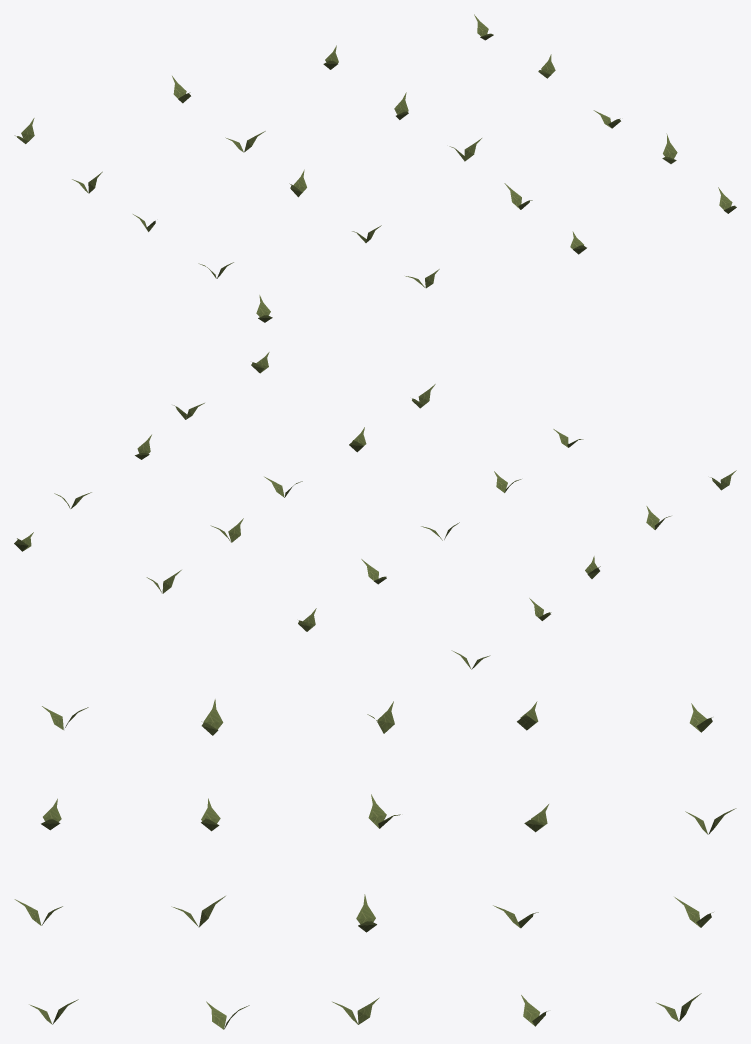
The model's file is crop_carrot_sprout.fbx.
The picture shows the model from 3 angles, top to bottom: view 1: azimuth 30°, elevation 25°; view 2: azimuth 150°, elevation 25°; view 3: azimuth 270°, elevation 25°; orthographic projection. The views are drawn at different scales.
Parts seen in each view (by area): view 1: crop_carrot_sprout; view 2: crop_carrot_sprout; view 3: crop_carrot_sprout.
Part boxes in pixels (left/top/right/bottom): crop_carrot_sprout: left=14, top=14, right=736, bottom=322; crop_carrot_sprout: left=14, top=352, right=736, bottom=669; crop_carrot_sprout: left=14, top=699, right=736, bottom=1029.
Size of the model in its own units: 1.48 by 0.0635 by 1.44.
1 material, 1 textured.
